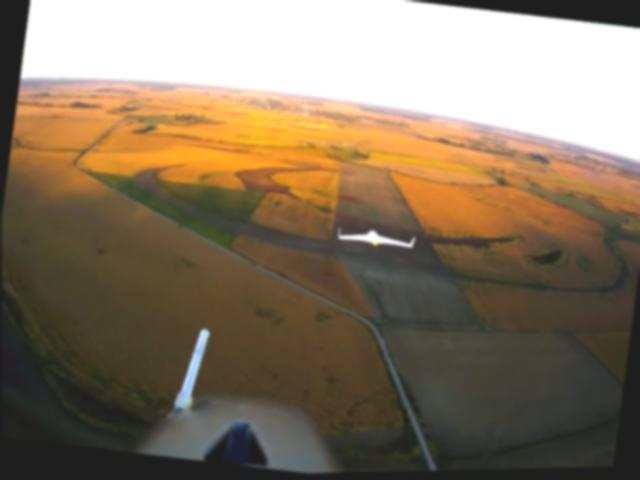plane: (336, 226, 415, 252)
